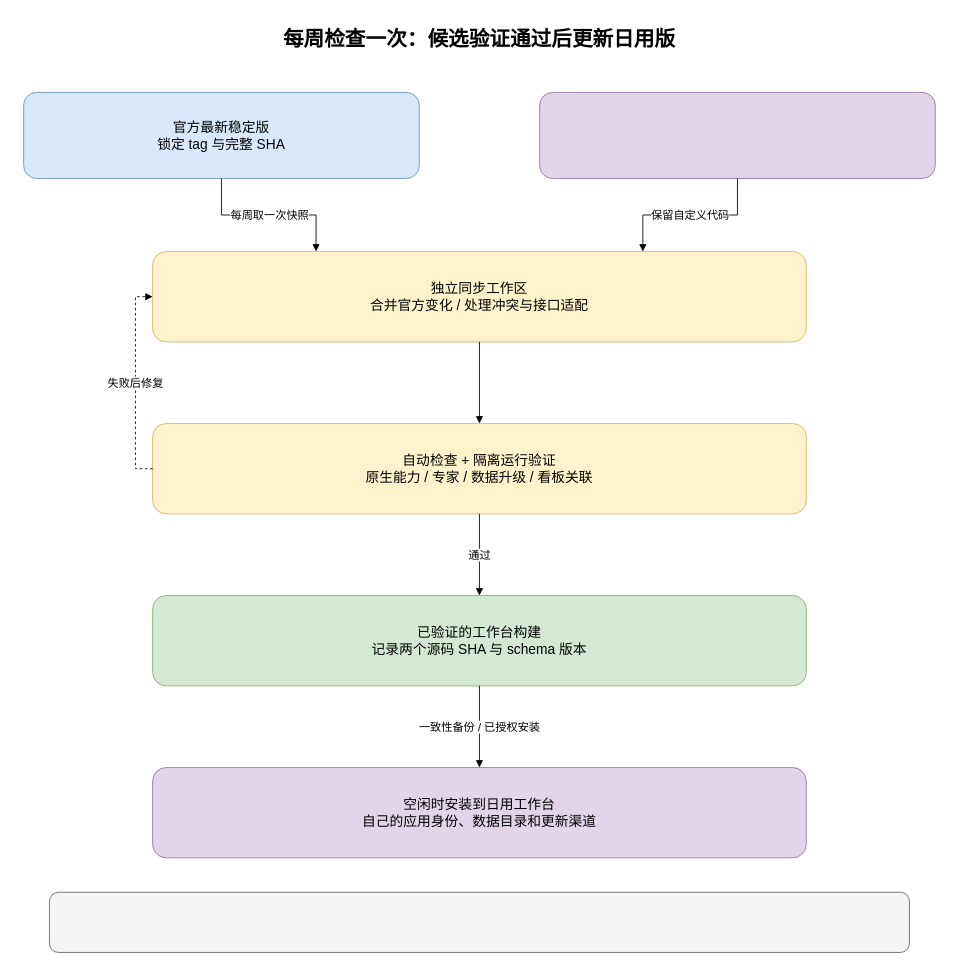
The diagram is 958 pixels wide and 968 high, and some of its shapes have lost their labels. Here are the shapes that lost their labels. From the top down, the centre of each, then its label:
At point (737, 135): "我们的已验证版本 Synara + 自定义能力".
At point (479, 921): "失败时保留原日用版并继续修复候选。回退涉及不兼容数据迁移时，需恢复配套数据备份。 本图描述目标流程；定时任务、分支合并和生产安装尚未配置。".
